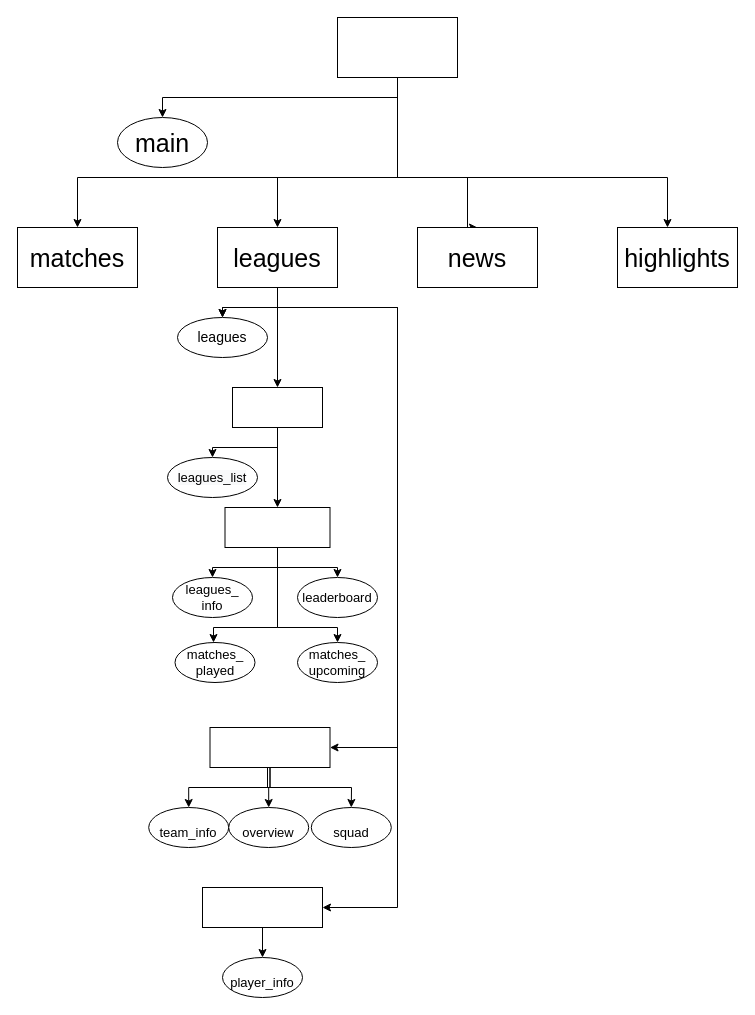
The diagram is 755 pixels wide and 1015 high, and some of its shapes have lost their labels. The centre of each missing label's shape, as x and y in pixels:
leagues_ component: point (277, 527)
leagues_info: point (277, 407)
lib: point (397, 47)
players: point (262, 907)
teams: point (269, 747)
